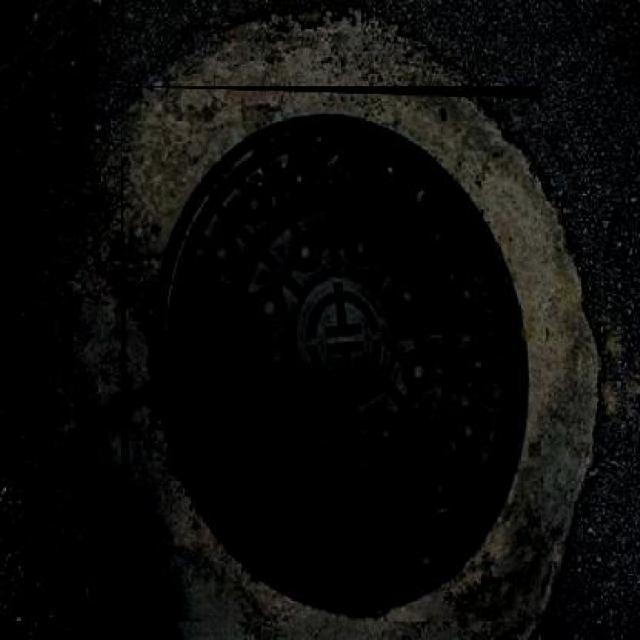Manhole: (119, 86, 538, 622)
